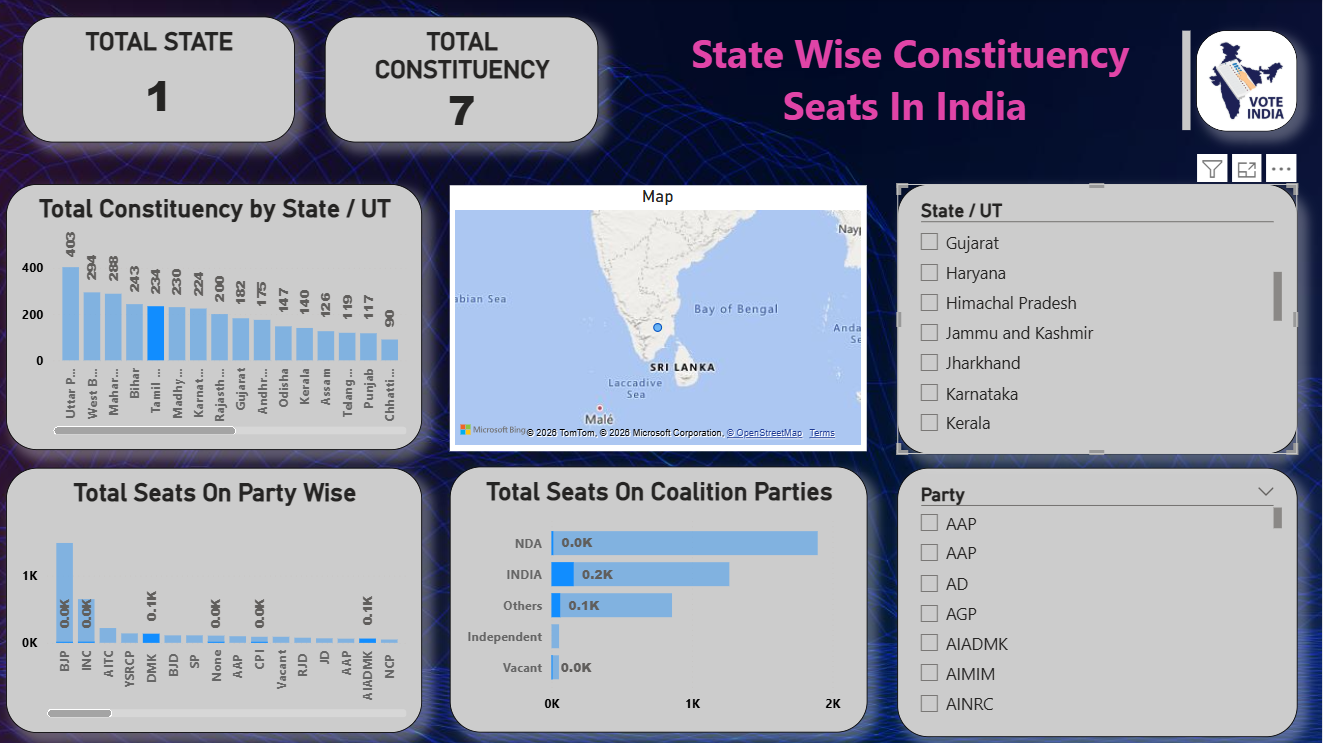

What the dashboard file says about the page in this screenshot:
{"tool":"powerbi","page":{"name":"Page 1","canvas":[1280,720],"ordinal":0},"visuals":[{"type":"card","title":"TOTAL STATE","fields":{"Values":["Count(Data.State / UT)"]},"box":[792.6,32.6,226.8,105],"z":0},{"type":"card","title":"TOTAL CONTITUENCY","fields":{"Values":["Count(Data.Total Constituency)"]},"box":[1042.4,32.6,228,103.8],"z":1000},{"type":"columnChart","title":"Total Constituency by State / UT","fields":{"Category":["Data.State / UT"],"Y":["Sum(Data.Total Constituency)"]},"box":[279.9,152.3,477.5,259.3],"z":2000},{"type":"map","fields":{"Category":["Data.State / UT"]},"box":[793.1,152.3,477.5,259.3],"z":3000},{"type":"columnChart","title":"TOTAL SEATS ON PARTY WISE","fields":{"Y":["Sum(Data.Total Constituency)"],"Category":["Data.Party"]},"box":[279.9,435,477.5,256.6],"z":4000},{"type":"clusteredBarChart","title":"TOTAL SEATS ON COALITION PARTIES","fields":{"Category":["Data.NDA / INDI"],"Y":["Sum(Data.Total Constituency)"]},"box":[793.1,435,477.5,256.6],"z":5000},{"type":"slicer","fields":{"Values":["Data.State / UT"]},"box":[34.3,152.3,223.7,259.3],"z":6000},{"type":"slicer","fields":{"Values":["Data.Party"]},"box":[35.7,432.2,223.7,259.3],"z":7000},{"type":"textbox","box":[237.4,13.7,544.8,138.6],"z":8000},{"type":"image","box":[33.8,13.3,167.7,124.3],"z":9000}]}

Visuals, with their boxes in screenshot pixels (x1, y1, x2, y2), scaled from the page's 1280x720 canvas onto the 1323x743 screenshot:
"TOTAL STATE" card: {"left": 819, "top": 34, "right": 1054, "bottom": 142}
"TOTAL CONTITUENCY" card: {"left": 1077, "top": 34, "right": 1313, "bottom": 141}
"Total Constituency by State / UT" columnChart: {"left": 289, "top": 157, "right": 783, "bottom": 425}
map - Data.State / UT: {"left": 820, "top": 157, "right": 1313, "bottom": 425}
"TOTAL SEATS ON PARTY WISE" columnChart: {"left": 289, "top": 449, "right": 783, "bottom": 714}
"TOTAL SEATS ON COALITION PARTIES" clusteredBarChart: {"left": 820, "top": 449, "right": 1313, "bottom": 714}
slicer - Data.State / UT: {"left": 35, "top": 157, "right": 267, "bottom": 425}
slicer - Data.Party: {"left": 37, "top": 446, "right": 268, "bottom": 714}
textbox: {"left": 245, "top": 14, "right": 808, "bottom": 157}
image: {"left": 35, "top": 14, "right": 208, "bottom": 142}
